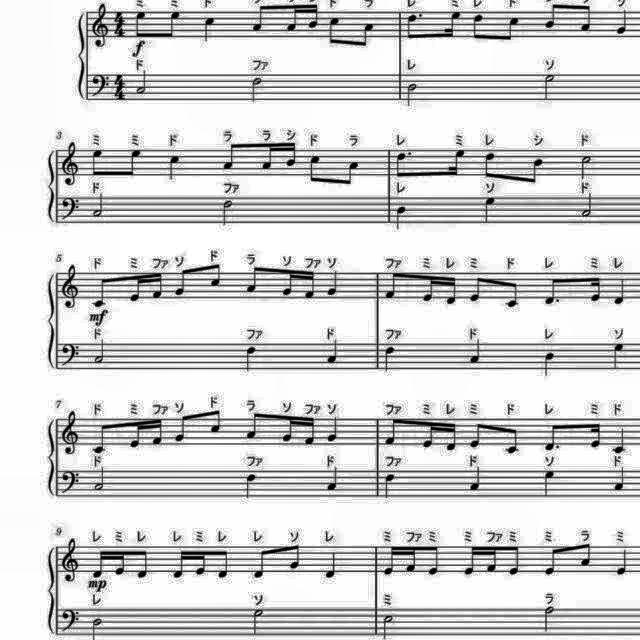Bass-clef: (61, 606, 84, 638), (59, 195, 83, 225), (59, 467, 83, 497), (59, 340, 83, 370), (90, 72, 112, 100)
Eighth-note: (88, 419, 110, 457), (88, 274, 109, 310), (250, 0, 272, 34), (341, 158, 364, 190), (525, 156, 547, 188), (355, 20, 377, 52), (220, 140, 242, 172), (306, 153, 326, 187), (252, 548, 272, 582), (172, 266, 192, 300), (502, 422, 522, 456), (544, 546, 564, 580), (125, 145, 145, 179), (404, 12, 426, 42), (164, 8, 184, 40), (174, 412, 194, 444), (466, 418, 486, 450), (544, 276, 564, 308), (480, 150, 500, 182), (544, 421, 564, 453), (242, 410, 262, 442), (502, 278, 522, 310), (382, 270, 402, 302), (242, 264, 262, 296), (380, 416, 400, 448), (325, 15, 343, 50), (501, 15, 522, 45), (540, 1, 560, 32), (576, 0, 594, 34), (424, 545, 442, 579), (504, 545, 522, 579), (215, 547, 233, 581), (468, 12, 486, 44), (132, 8, 150, 40), (136, 546, 152, 582), (86, 146, 104, 178), (467, 273, 485, 305), (207, 407, 226, 437), (395, 148, 413, 178), (207, 261, 225, 291), (285, 543, 303, 573), (576, 540, 592, 570)
Half-note: (250, 608, 270, 640), (541, 606, 559, 638), (218, 197, 236, 227), (379, 612, 397, 640), (92, 338, 110, 366), (247, 76, 265, 104), (91, 466, 109, 494), (540, 73, 556, 103), (134, 70, 150, 98), (92, 192, 108, 220), (578, 192, 594, 220), (578, 152, 594, 180), (406, 79, 422, 107), (89, 616, 107, 640)
Quarter-note: (201, 12, 219, 44), (615, 546, 633, 578), (322, 464, 342, 492), (324, 414, 342, 444), (612, 426, 630, 456), (615, 6, 633, 36), (539, 467, 557, 497), (323, 269, 341, 299), (166, 153, 184, 183), (321, 550, 339, 580), (612, 276, 630, 306), (242, 470, 260, 500), (481, 196, 499, 226), (242, 344, 260, 374), (379, 344, 396, 374), (323, 338, 341, 366), (612, 464, 630, 492), (466, 338, 484, 366), (466, 464, 484, 492), (612, 341, 628, 371), (540, 348, 556, 378), (382, 470, 398, 500), (392, 204, 408, 232)
Sixteenth-note: (442, 8, 464, 40), (282, 0, 302, 34), (448, 146, 468, 178), (149, 415, 167, 449), (149, 269, 167, 303), (381, 544, 399, 578), (127, 418, 145, 450), (127, 272, 145, 304), (420, 421, 438, 452), (88, 548, 105, 580), (464, 546, 481, 578), (174, 548, 190, 582), (420, 275, 438, 305), (303, 416, 319, 449), (442, 274, 458, 306), (442, 420, 458, 452), (405, 545, 421, 577), (303, 268, 319, 300), (588, 419, 604, 451), (112, 548, 128, 580), (306, 1, 322, 32), (262, 142, 278, 172), (280, 414, 296, 444), (280, 268, 296, 298), (194, 549, 210, 579), (588, 274, 604, 304), (282, 142, 298, 170), (486, 546, 500, 576)
Treble-clef: (60, 408, 84, 458), (59, 138, 83, 186), (60, 263, 84, 311), (60, 536, 84, 584), (88, 0, 109, 48)
